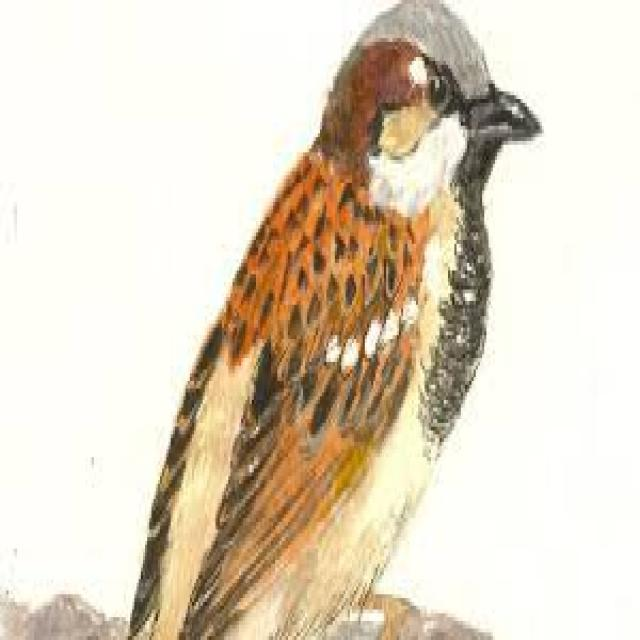Sparrow: (123, 0, 544, 640)
